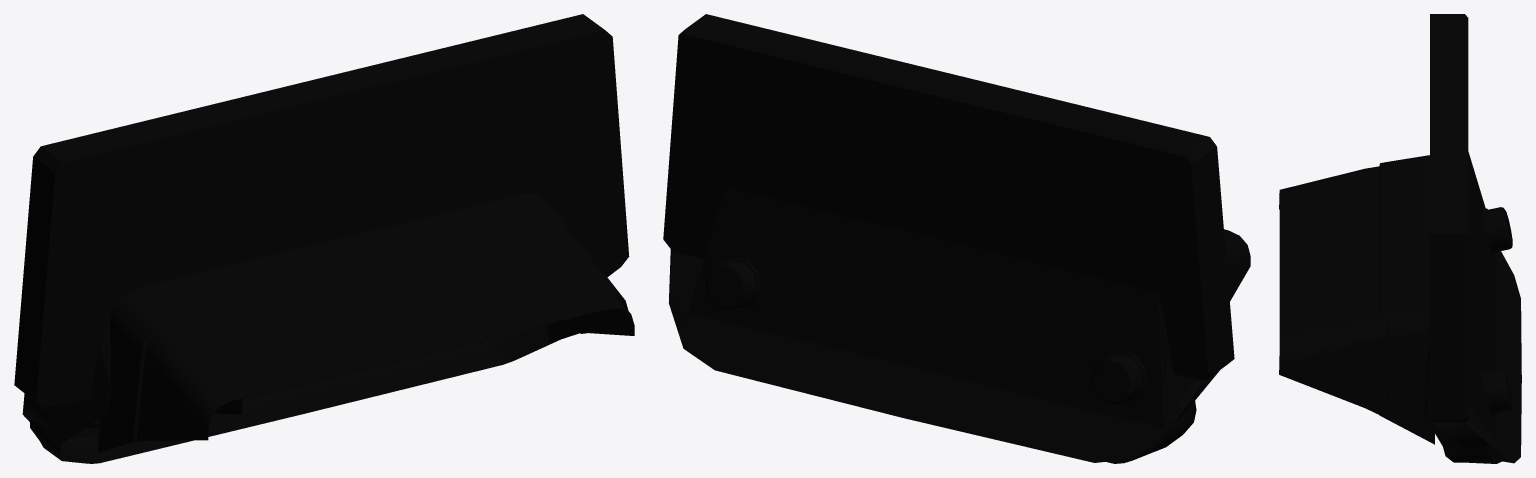
File: radio_off.glb
The picture shows the model from 3 angles, left to right: view 1: azimuth 30°, elevation 25°; view 2: azimuth 150°, elevation 25°; view 3: azimuth 270°, elevation 25°; orthographic projection. The views are drawn at different scales.
Visible parts, largest first — view 1: gaopeipingmu, pasted__polySurface1237; view 2: gaopeipingmu, pasted__polySurface1237; view 3: gaopeipingmu, pasted__polySurface1237.
Part boxes in pixels (x1,y1,x2,y2): gaopeipingmu: (14, 14, 629, 438); pasted__polySurface1237: (29, 223, 634, 463); gaopeipingmu: (663, 14, 1234, 462); pasted__polySurface1237: (688, 187, 1250, 463); gaopeipingmu: (1297, 14, 1521, 463); pasted__polySurface1237: (1279, 152, 1512, 463).
Bounding box in the file's own units: 0.3592 × 0.1946 × 0.1601.
Materials: 1 (1 with a texture image).
